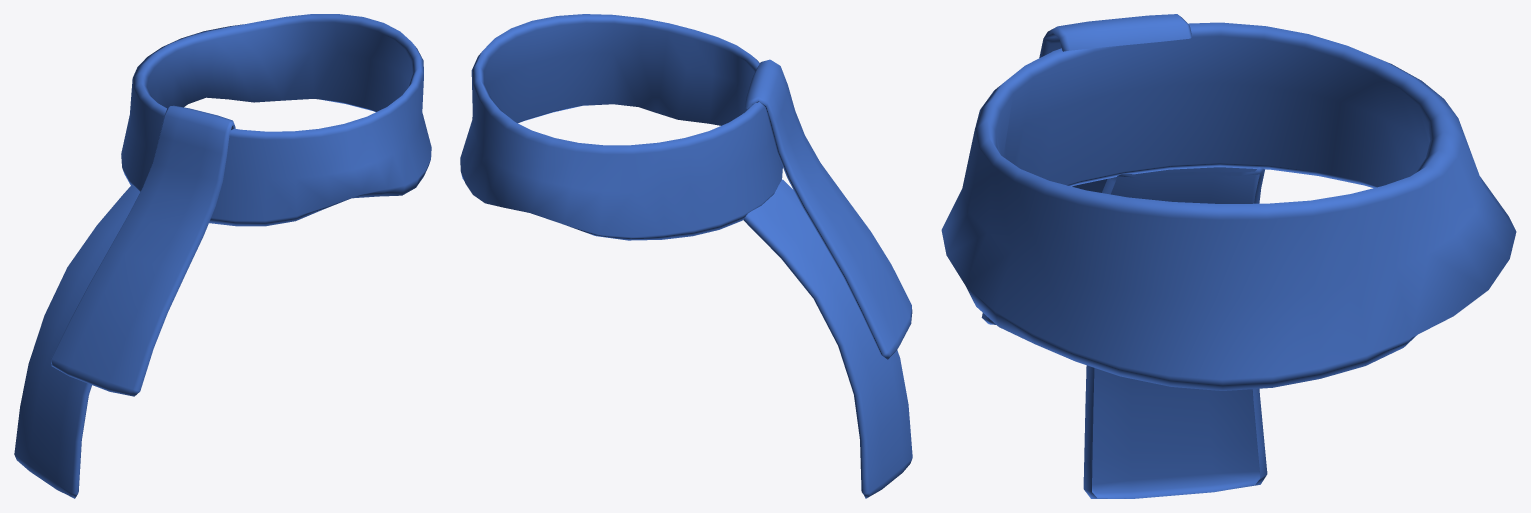
Rendered from SM_Scarf.fbx.
3 views of the same model, side by side, from view 1: azimuth 30°, elevation 25°; view 2: azimuth 150°, elevation 25°; view 3: azimuth 270°, elevation 25° (orthographic). The views are drawn at different scales.
Parts seen in each view (by area): view 1: SM_Scarf; view 2: SM_Scarf; view 3: SM_Scarf.
Boxes of the visible parts, x1,y1,x2,y2 form: SM_Scarf: (14,14,431,498); SM_Scarf: (460,14,912,498); SM_Scarf: (941,14,1516,498).
Size of the model in its own units: 38.1 by 28.65 by 32.85.
Materials: 1 (1 with a texture image).
